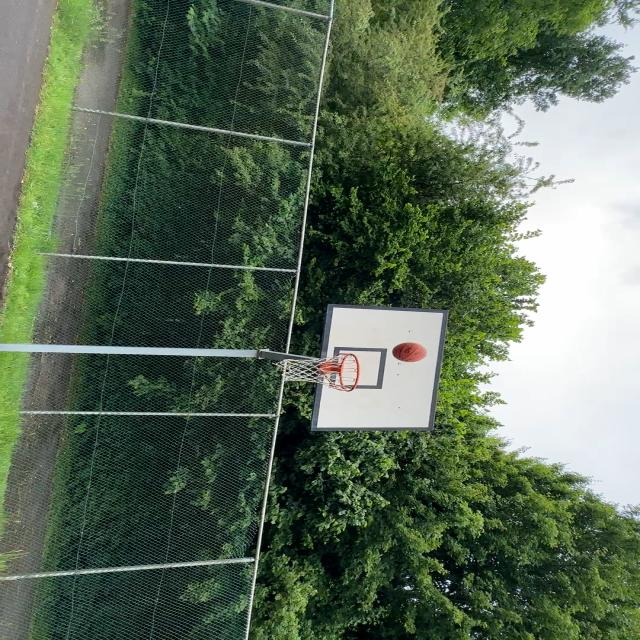Basketball: (393, 342, 427, 364)
